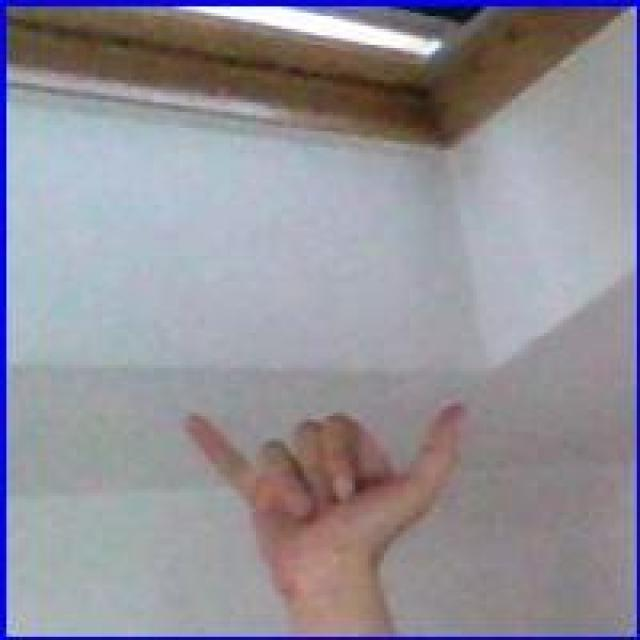Y: (182, 403, 473, 586)
